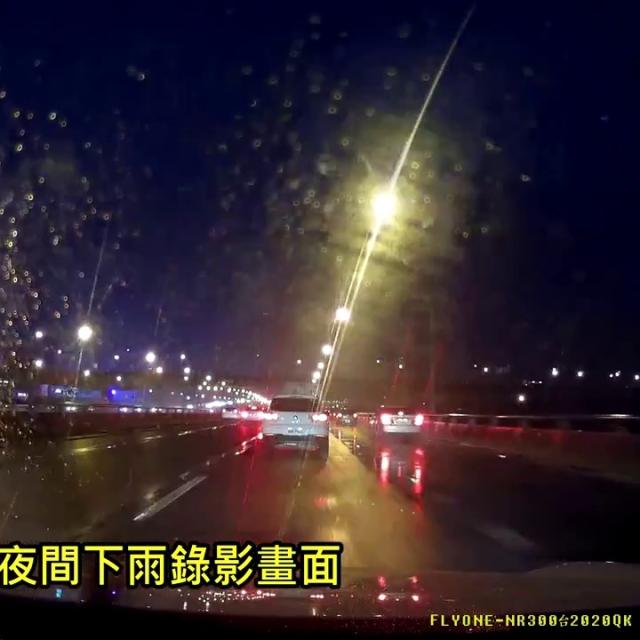Car: (261, 392, 328, 459), (365, 404, 421, 439), (332, 406, 356, 425), (219, 405, 240, 418)
